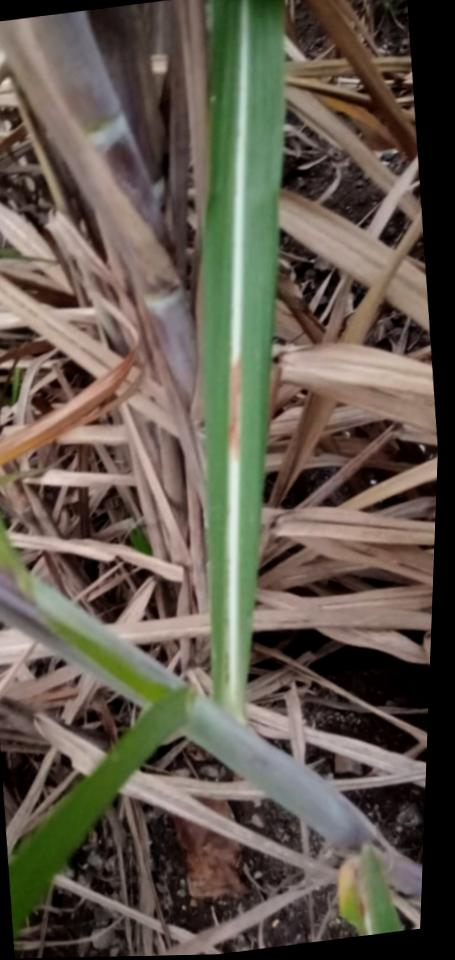RedRot: (226, 352, 245, 452)
